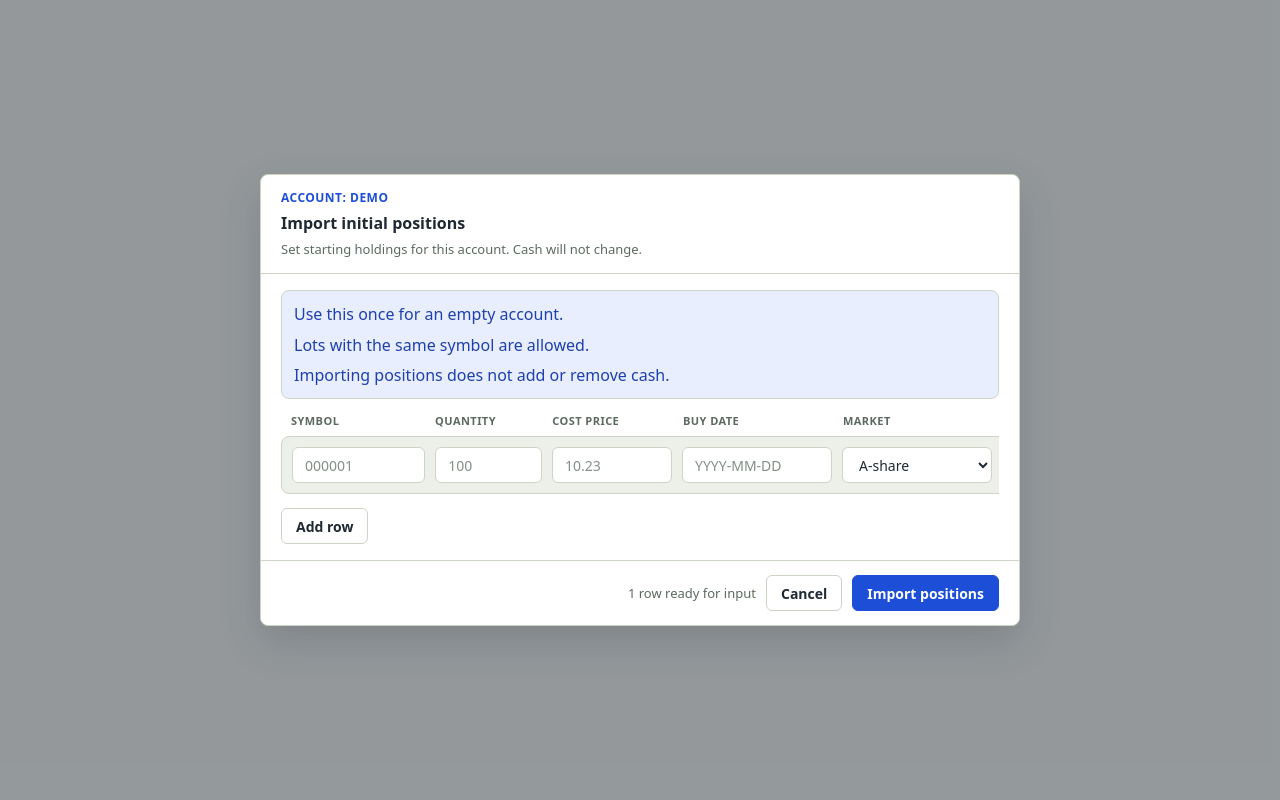
Test case: ImportPositionsModal › defaults every new row to A-share
Expected: the dropdown named "Market" shows "A-share", [842,447,992,483]
Click the button "Add row" at [325, 526], box [281,508,368,544]
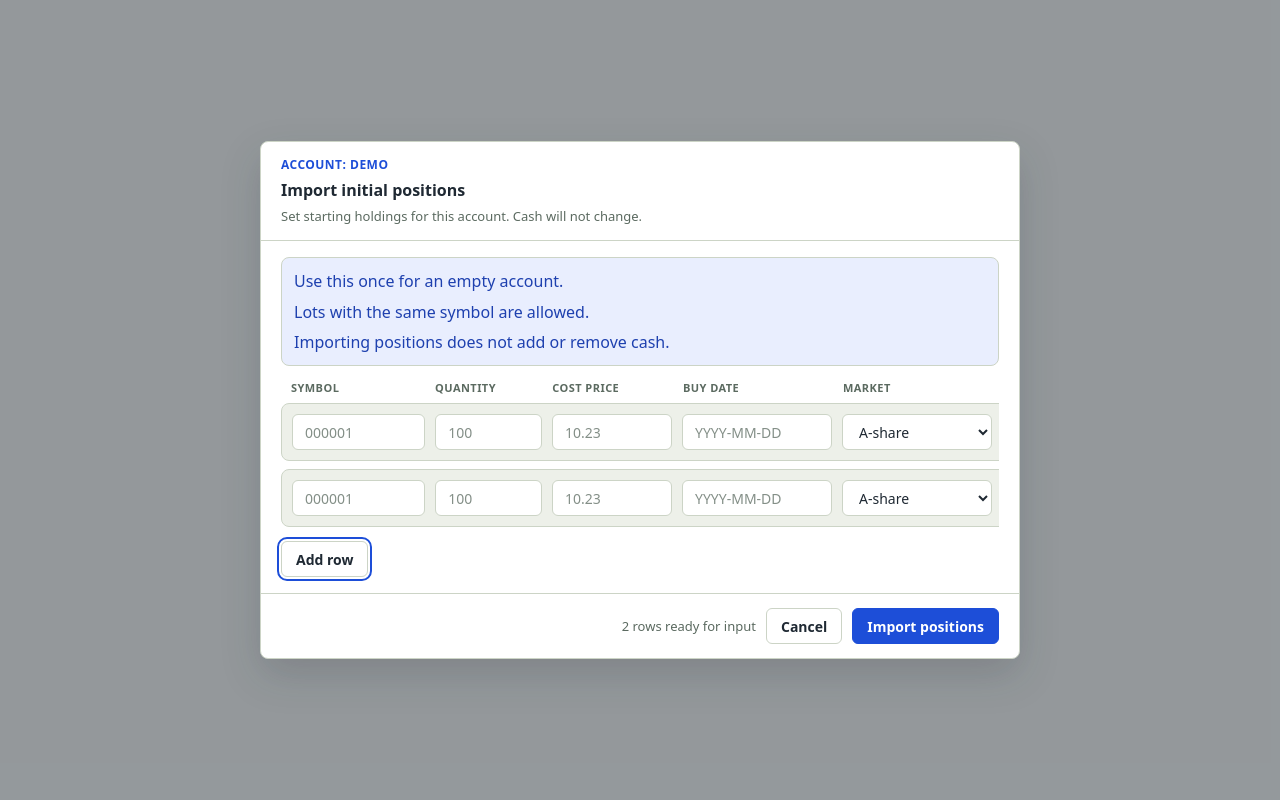
Result: the number of dropdowns named "Market" is 2 at [842,414,992,450]; [842,480,992,516]
Result: the 2nd dropdown named "Market" shows "A-share" at [842,480,992,516]
